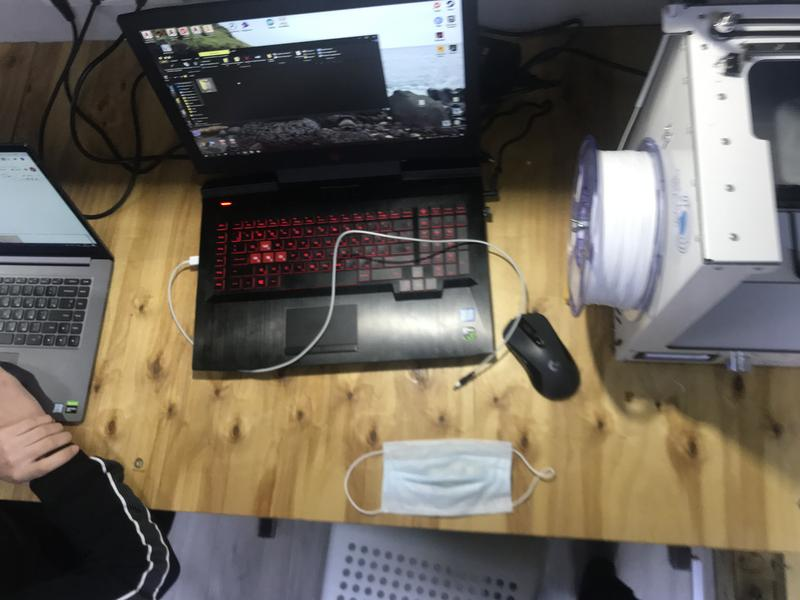medical_mask: (345, 440, 553, 513)
